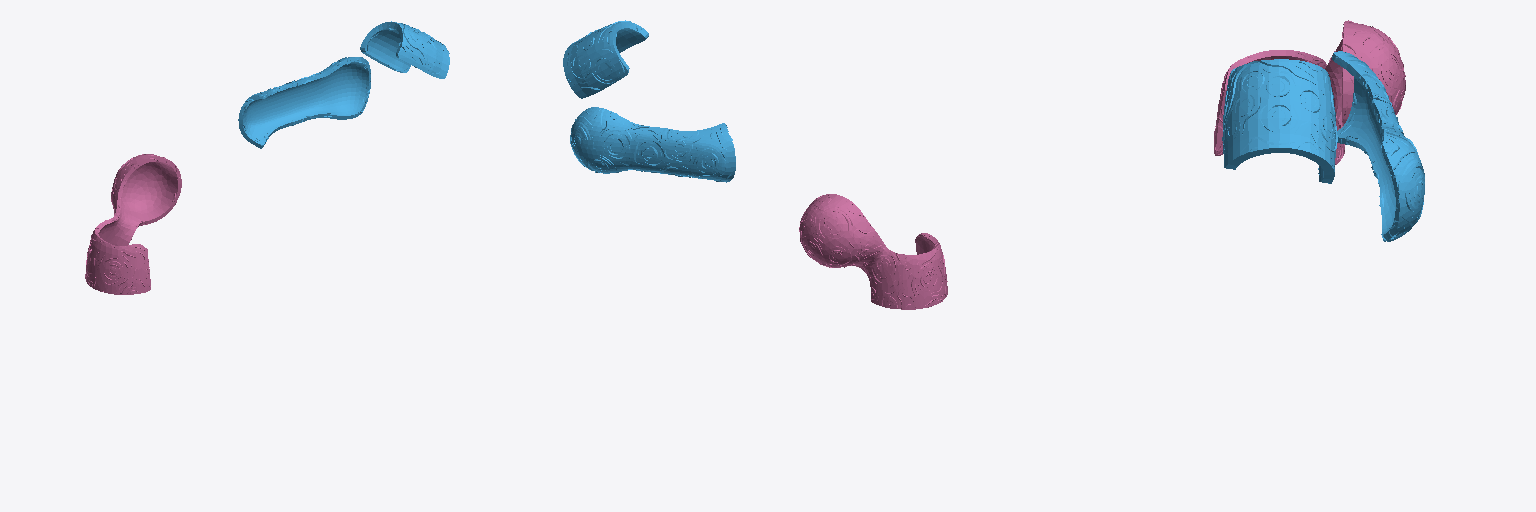
--- What the picture shows (computed from the rendered views, not written in the file) ---
Views: 3 orthographic renders of the robot side by side, from view 1: azimuth 30°, elevation 25°; view 2: azimuth 150°, elevation 25°; view 3: azimuth 270°, elevation 25°.
Model fr3 with 51 links and 50 joints (7 revolute, 43 fixed), rooted at base, posed all joints at 0 but 2 set to mid-range because 0 is outside their limits (fr3_joint4 = -1.6, fr3_joint6 = 2.53).
Links seen in each view (by area): view 1: link3_skin, link5_skin, link6_skin; view 2: link3_skin, link5_skin, link6_skin; view 3: link6_skin, link5_skin, link3_skin.
Boxes of the visible links, <box> form: link3_skin: <box>85,154,181,294</box>; link5_skin: <box>238,57,370,148</box>; link6_skin: <box>360,21,449,78</box>; link3_skin: <box>799,194,947,309</box>; link5_skin: <box>570,107,735,182</box>; link6_skin: <box>563,20,648,98</box>; link6_skin: <box>1222,59,1337,183</box>; link5_skin: <box>1332,51,1424,241</box>; link3_skin: <box>1214,20,1405,164</box>.
Size in the robot's own frame: 0.6432 by 0.273 by 0.6714 metres.
3 mesh visuals loaded from 13 distinct referenced files (3 binary STL); not drawn: 10 (reference not matched to a file when rendering).

The robot description file, URDF, robot "fr3":
<?xml version="1.0" ?>
<!-- =================================================================================== -->
<!-- |    This document was autogenerated by xacro from src/gentact_ros_tools/urdf/robot/fr3_full_skin.xacro | -->
<!-- |    EDITING THIS FILE BY HAND IS NOT RECOMMENDED                                 | -->
<!-- =================================================================================== -->
<!-- =================================================================================== -->
<!-- |    This document was autogenerated by xacro from fr3.urdf.xacro                 | -->
<!-- |    EDITING THIS FILE BY HAND IS NOT RECOMMENDED                                 | -->
<!-- =================================================================================== -->
<robot name="fr3">
  <!-- safety_distance: Minimum safety distance in [m] by which the collision volumes are expanded and which is enforced during robot motions -->
  <!-- arm_id: Namespace of the robot arm. Serves to differentiate between arms in case of multiple instances. -->
  <!-- joint_limits: description of the joint limits that comes from a YAML file. Example definition: ${xacro.load_yaml('$(find gentact_ros_tools)/robots/fr3/joint_limits.yaml')} -->
  <!-- kinematics: description of the kinematics that comes from a YAML file. Example definition: ${xacro.load_yaml('$(find gentact_ros_tools)/robots/fr3/kinematics.yaml')} -->
  <!-- inertials: description of the inertials that comes from a YAML file. Example definition: ${xacro.load_yaml('$(find gentact_ros_tools)/robots/fr3/inertials.yaml')} -->
  <!-- dynamics: description of the dynamics that comes from a YAML file. Example definition: ${xacro.load_yaml('$(find gentact_ros_tools)/robots/fr3/dynamics.yaml')} -->
  <link name="base">
      </link>
  <joint name="fr3_base_joint" type="fixed">
    <parent link="base"/>
    <child link="fr3_link0"/>
    <origin rpy="0 0 0" xyz="0 0 0"/>
  </joint>
  <!-- sub-link defining detailed meshes for collision with environment -->
  <link name="fr3_link0">
    <visual name="fr3_link0_visual">
      <geometry>
        <mesh filename="package://gentact_ros_tools/meshes/robot_arms/fr3/visual/link0.dae"/>
      </geometry>
    </visual>
    <collision name="fr3_link0_collision">
      <geometry>
        <mesh filename="package://gentact_ros_tools/meshes/robot_arms/fr3/collision/link0.stl"/>
      </geometry>
    </collision>
    <inertial>
      <origin rpy="0 0 0" xyz="-0.0172 0.0004 0.0745"/>
      <mass value="2.3966"/>
      <inertia ixx="0.009" ixy="0.0" ixz="0.002" iyy="0.0115" iyz="0.0" izz="0.0085"/>
    </inertial>
  </link>
  <!-- sub-link defining detailed meshes for collision with environment -->
  <link name="fr3_link1">
    <visual name="fr3_link1_visual">
      <geometry>
        <mesh filename="package://gentact_ros_tools/meshes/robot_arms/fr3/visual/link1.dae"/>
      </geometry>
    </visual>
    <collision name="fr3_link1_collision">
      <geometry>
        <mesh filename="package://gentact_ros_tools/meshes/robot_arms/fr3/collision/link1.stl"/>
      </geometry>
    </collision>
    <inertial>
      <origin rpy="0 0 0" xyz="0.0000004128 -0.0181251324 -0.0386035970"/>
      <mass value="2.9274653454"/>
      <inertia ixx="0.023927316485107913" ixy="1.3317903455714081e-05" ixz="-0.00011404774918616684" iyy="0.0224821613275756" iyz="-0.0019950320628240115" izz="0.006350098258530016"/>
    </inertial>
  </link>
  <joint name="fr3_joint1" type="revolute">
    <origin rpy="0 0 0" xyz="0 0 0.333"/>
    <parent link="fr3_link0"/>
    <child link="fr3_link1"/>
    <axis xyz="0 0 1"/>
    <limit effort="87.0" lower="-2.7437" upper="2.7437" velocity="2.62"/>
    <safety_controller k_position="100.0" k_velocity="40.0" soft_lower_limit="-2.7437" soft_upper_limit="2.7437"/>
    <dynamics D="1" K="7000" damping="0.003" friction="0.2" mu_coulomb="0" mu_viscous="16"/>
  </joint>
  <!-- [m] -->
  <link name="link1_skin">
    <visual>
      <origin rpy="0 0 0" xyz="0 0 0"/>
      <geometry>
        <mesh filename="package://gentact_ros_tools/meshes/skin/self-cap/link1_fancy.stl" scale="1 1 1"/>
      </geometry>
    </visual>
  </link>
  <joint name="link1_base_joint" type="fixed">
    <origin rpy="0 0 0" xyz="0 0 0"/>
    <parent link="fr3_link1"/>
    <child link="link1_skin"/>
  </joint>
  <joint name="link1_sensor_0_joint" type="fixed">
    <origin rpy="1.350 0.000 -1.088" xyz="-0.050 -0.111 0.013"/>
    <axis xyz="-0.864 -0.453 0.219"/>
    <parent link="link1_skin"/>
    <child link="link1_sensor_0"/>
  </joint>
  <link name="link1_sensor_0">
    <visual>
      <geometry>
        <sphere radius="0.0"/>
        <!-- [m] -->
      </geometry>
    </visual>
    <collision>
      <geometry>
        <sphere radius="0.0"/>
        <!-- [m] -->
      </geometry>
    </collision>
  </link>
  <joint name="link1_sensor_1_joint" type="fixed">
    <origin rpy="1.638 0.000 -0.596" xyz="-0.034 -0.053 -0.135"/>
    <axis xyz="-0.56 -0.826 -0.067"/>
    <parent link="link1_skin"/>
    <child link="link1_sensor_1"/>
  </joint>
  <link name="link1_sensor_1">
    <visual>
      <geometry>
        <sphere radius="0.0"/>
        <!-- [m] -->
      </geometry>
    </visual>
    <collision>
      <geometry>
        <sphere radius="0.0"/>
        <!-- [m] -->
      </geometry>
    </collision>
  </link>
  <joint name="link1_sensor_2_joint" type="fixed">
    <origin rpy="1.653 -0.000 0.315" xyz="0.019 -0.060 -0.138"/>
    <axis xyz="0.309 -0.948 -0.082"/>
    <parent link="link1_skin"/>
    <child link="link1_sensor_2"/>
  </joint>
  <link name="link1_sensor_2">
    <visual>
      <geometry>
        <sphere radius="0.0"/>
        <!-- [m] -->
      </geometry>
    </visual>
    <collision>
      <geometry>
        <sphere radius="0.0"/>
        <!-- [m] -->
      </geometry>
    </collision>
  </link>
  <joint name="link1_sensor_3_joint" type="fixed">
    <origin rpy="2.309 0.000 -0.530" xyz="-0.023 -0.113 -0.044"/>
    <axis xyz="-0.374 -0.638 -0.673"/>
    <parent link="link1_skin"/>
    <child link="link1_sensor_3"/>
  </joint>
  <link name="link1_sensor_3">
    <visual>
      <geometry>
        <sphere radius="0.0"/>
        <!-- [m] -->
      </geometry>
    </visual>
    <collision>
      <geometry>
        <sphere radius="0.0"/>
        <!-- [m] -->
      </geometry>
    </collision>
  </link>
  <joint name="link1_sensor_4_joint" type="fixed">
    <origin rpy="2.057 0.000 0.441" xyz="0.023 -0.074 -0.084"/>
    <axis xyz="0.378 -0.8 -0.467"/>
    <parent link="link1_skin"/>
    <child link="link1_sensor_4"/>
  </joint>
  <link name="link1_sensor_4">
    <visual>
      <geometry>
        <sphere radius="0.0"/>
        <!-- [m] -->
      </geometry>
    </visual>
    <collision>
      <geometry>
        <sphere radius="0.0"/>
        <!-- [m] -->
      </geometry>
    </collision>
  </link>
  <joint name="link1_sensor_5_joint" type="fixed">
    <origin rpy="1.346 -0.000 1.049" xyz="0.049 -0.112 0.012"/>
    <axis xyz="0.845 -0.486 0.223"/>
    <parent link="link1_skin"/>
    <child link="link1_sensor_5"/>
  </joint>
  <link name="link1_sensor_5">
    <visual>
      <geometry>
        <sphere radius="0.0"/>
        <!-- [m] -->
      </geometry>
    </visual>
    <collision>
      <geometry>
        <sphere radius="0.0"/>
        <!-- [m] -->
      </geometry>
    </collision>
  </link>
  <joint name="link1_sensor_6_joint" type="fixed">
    <origin rpy="1.477 0.000 -0.087" xyz="-0.006 -0.136 0.006"/>
    <axis xyz="-0.086 -0.992 0.094"/>
    <parent link="link1_skin"/>
    <child link="link1_sensor_6"/>
  </joint>
  <link name="link1_sensor_6">
    <visual>
      <geometry>
        <sphere radius="0.0"/>
        <!-- [m] -->
      </geometry>
    </visual>
    <collision>
      <geometry>
        <sphere radius="0.0"/>
        <!-- [m] -->
      </geometry>
    </collision>
  </link>
  <joint name="link1_sensor_7_joint" type="fixed">
    <origin rpy="2.260 0.000 0.700" xyz="0.030 -0.112 -0.041"/>
    <axis xyz="0.497 -0.59 -0.636"/>
    <parent link="link1_skin"/>
    <child link="link1_sensor_7"/>
  </joint>
  <link name="link1_sensor_7">
    <visual>
      <geometry>
        <sphere radius="0.0"/>
        <!-- [m] -->
      </geometry>
    </visual>
    <collision>
      <geometry>
        <sphere radius="0.0"/>
        <!-- [m] -->
      </geometry>
    </collision>
  </link>
  <!-- sub-link defining detailed meshes for collision with environment -->
  <link name="fr3_link2">
    <visual name="fr3_link2_visual">
      <geometry>
        <mesh filename="package://gentact_ros_tools/meshes/robot_arms/fr3/visual/link2.dae"/>
      </geometry>
    </visual>
    <collision name="fr3_link2_collision">
      <geometry>
        <mesh filename="package://gentact_ros_tools/meshes/robot_arms/fr3/collision/link2.stl"/>
      </geometry>
    </collision>
    <inertial>
      <origin rpy="0 0 0" xyz="0.0031828864 -0.0743221644 0.0088146084"/>
      <mass value="2.9355370338"/>
      <inertia ixx="0.041938946257609425" ixy="0.00020257331521090626" ixz="0.004077784227179924" iyy="0.02514514885014724" iyz="-0.0042252158006570156" izz="0.06170214472888839"/>
    </inertial>
  </link>
  <joint name="fr3_joint2" type="revolute">
    <origin rpy="-1.570796326794897 0 0" xyz="0 0 0"/>
    <parent link="fr3_link1"/>
    <child link="fr3_link2"/>
    <axis xyz="0 0 1"/>
    <limit effort="87.0" lower="-1.7837" upper="1.7837" velocity="2.62"/>
    <safety_controller k_position="100.0" k_velocity="40.0" soft_lower_limit="-1.7837" soft_upper_limit="1.7837"/>
    <dynamics D="1" K="7000" damping="0.003" friction="0.2" mu_coulomb="0" mu_viscous="16"/>
  </joint>
  <!-- [m] -->
  <link name="link2_skin">
    <visual>
      <origin rpy="0 0 0" xyz="0 0 0"/>
      <geometry>
        <mesh filename="package://gentact_ros_tools/meshes/skin/self-cap/link2_fancy.stl" scale="1 1 1"/>
      </geometry>
    </visual>
  </link>
  <joint name="link2_base_joint" type="fixed">
    <origin rpy="1.5707 0 0" xyz="0 0 0"/>
    <parent link="fr3_link2"/>
    <child link="link2_skin"/>
  </joint>
  <joint name="link2_sensor_0_joint" type="fixed">
    <origin rpy="1.670 -0.000 -2.166" xyz="-0.048 0.113 -0.006"/>
    <axis xyz="-0.824 0.558 -0.099"/>
    <parent link="link2_skin"/>
    <child link="link2_sensor_0"/>
  </joint>
  <link name="link2_sensor_0">
    <visual>
      <geometry>
        <sphere radius="0.0"/>
        <!-- [m] -->
      </geometry>
    </visual>
    <collision>
      <geometry>
        <sphere radius="0.0"/>
        <!-- [m] -->
      </geometry>
    </collision>
  </link>
  <joint name="link2_sensor_1_joint" type="fixed">
    <origin rpy="1.526 -0.000 2.508" xyz="0.032 0.053 0.147"/>
    <axis xyz="0.592 0.805 0.044"/>
    <parent link="link2_skin"/>
    <child link="link2_sensor_1"/>
  </joint>
  <link name="link2_sensor_1">
    <visual>
      <geometry>
        <sphere radius="0.0"/>
        <!-- [m] -->
      </geometry>
    </visual>
    <collision>
      <geometry>
        <sphere radius="0.0"/>
        <!-- [m] -->
      </geometry>
    </collision>
  </link>
  <joint name="link2_sensor_2_joint" type="fixed">
    <origin rpy="1.549 -0.000 -2.303" xyz="-0.046 0.040 0.162"/>
    <axis xyz="-0.744 0.668 0.022"/>
    <parent link="link2_skin"/>
    <child link="link2_sensor_2"/>
  </joint>
  <link name="link2_sensor_2">
    <visual>
      <geometry>
        <sphere radius="0.0"/>
        <!-- [m] -->
      </geometry>
    </visual>
    <collision>
      <geometry>
        <sphere radius="0.0"/>
        <!-- [m] -->
      </geometry>
    </collision>
  </link>
  <joint name="link2_sensor_3_joint" type="fixed">
    <origin rpy="1.513 -0.000 2.207" xyz="0.050 0.110 0.007"/>
    <axis xyz="0.803 0.593 0.058"/>
    <parent link="link2_skin"/>
    <child link="link2_sensor_3"/>
  </joint>
  <link name="link2_sensor_3">
    <visual>
      <geometry>
        <sphere radius="0.0"/>
        <!-- [m] -->
      </geometry>
    </visual>
    <collision>
      <geometry>
        <sphere radius="0.0"/>
        <!-- [m] -->
      </geometry>
    </collision>
  </link>
  <joint name="link2_sensor_4_joint" type="fixed">
    <origin rpy="1.107 0.000 3.050" xyz="0.004 0.074 0.093"/>
    <axis xyz="0.081 0.89 0.448"/>
    <parent link="link2_skin"/>
    <child link="link2_sensor_4"/>
  </joint>
  <link name="link2_sensor_4">
    <visual>
      <geometry>
        <sphere radius="0.0"/>
        <!-- [m] -->
      </geometry>
    </visual>
    <collision>
      <geometry>
        <sphere radius="0.0"/>
        <!-- [m] -->
      </geometry>
    </collision>
  </link>
  <joint name="link2_sensor_5_joint" type="fixed">
    <origin rpy="0.869 -0.000 3.063" xyz="0.001 0.117 0.045"/>
    <axis xyz="0.06 0.761 0.646"/>
    <parent link="link2_skin"/>
    <child link="link2_sensor_5"/>
  </joint>
  <link name="link2_sensor_5">
    <visual>
      <geometry>
        <sphere radius="0.0"/>
        <!-- [m] -->
      </geometry>
    </visual>
    <collision>
      <geometry>
        <sphere radius="0.0"/>
        <!-- [m] -->
      </geometry>
    </collision>
  </link>
  <joint name="link2_sensor_6_joint" type="fixed">
    <origin rpy="-0.676 -3.142 -0.578" xyz="0.019 0.111 -0.046"/>
    <axis xyz="0.342 0.524 -0.78"/>
    <parent link="link2_skin"/>
    <child link="link2_sensor_6"/>
  </joint>
  <link name="link2_sensor_6">
    <visual>
      <geometry>
        <sphere radius="0.0"/>
        <!-- [m] -->
      </geometry>
    </visual>
    <collision>
      <geometry>
        <sphere radius="0.0"/>
        <!-- [m] -->
      </geometry>
    </collision>
  </link>
  <!-- sub-link defining detailed meshes for collision with environment -->
  <link name="fr3_link3">
    <visual name="fr3_link3_visual">
      <geometry>
        <mesh filename="package://gentact_ros_tools/meshes/robot_arms/fr3/visual/link3.dae"/>
      </geometry>
    </visual>
    <collision name="fr3_link3_collision">
      <geometry>
        <mesh filename="package://gentact_ros_tools/meshes/robot_arms/fr3/collision/link3.stl"/>
      </geometry>
    </collision>
    <inertial>
      <origin rpy="0 0 0" xyz="0.0407015686 -0.0048200565 -0.0289730823"/>
      <mass value="2.2449013699"/>
      <inertia ixx="0.02410142547240885" ixy="0.002404694559042109" ixz="-0.002856269270114313" iyy="0.01974053266708178" iyz="-0.002104212683891874" izz="0.019044494482244823"/>
    </inertial>
  </link>
  <joint name="fr3_joint3" type="revolute">
    <origin rpy="1.570796326794897 0 0" xyz="0 -0.316 0"/>
    <parent link="fr3_link2"/>
    <child link="fr3_link3"/>
    <axis xyz="0 0 1"/>
    <limit effort="87.0" lower="-2.9007" upper="2.9007" velocity="2.62"/>
    <safety_controller k_position="100.0" k_velocity="40.0" soft_lower_limit="-2.9007" soft_upper_limit="2.9007"/>
    <dynamics D="1" K="7000" damping="0.003" friction="0.2" mu_coulomb="0" mu_viscous="16"/>
  </joint>
  <!-- [m] -->
  <link name="link3_skin">
    <visual>
      <origin rpy="0 0 0" xyz="0 0 0"/>
      <geometry>
        <mesh filename="package://gentact_ros_tools/meshes/skin/self-cap/link3_fancy.stl" scale="1 1 1"/>
      </geometry>
    </visual>
  </link>
  <joint name="link3_base_joint" type="fixed">
    <origin rpy="0 0 0" xyz="0 0 0"/>
    <parent link="fr3_link3"/>
    <child link="link3_skin"/>
  </joint>
  <joint name="link3_sensor_0_joint" type="fixed">
    <origin rpy="1.392 0.000 -3.082" xyz="0.008 0.051 -0.043"/>
    <axis xyz="-0.059 0.982 0.178"/>
    <parent link="link3_skin"/>
    <child link="link3_sensor_0"/>
  </joint>
  <link name="link3_sensor_0">
    <visual>
      <geometry>
        <sphere radius="0.0"/>
        <!-- [m] -->
      </geometry>
    </visual>
    <collision>
      <geometry>
        <sphere radius="0.0"/>
        <!-- [m] -->
      </geometry>
    </collision>
  </link>
  <joint name="link3_sensor_1_joint" type="fixed">
    <origin rpy="1.768 -0.000 2.918" xyz="0.097 0.113 -0.015"/>
    <axis xyz="0.217 0.956 -0.196"/>
    <parent link="link3_skin"/>
    <child link="link3_sensor_1"/>
  </joint>
  <link name="link3_sensor_1">
    <visual>
      <geometry>
        <sphere radius="0.0"/>
        <!-- [m] -->
      </geometry>
    </visual>
    <collision>
      <geometry>
        <sphere radius="0.0"/>
        <!-- [m] -->
      </geometry>
    </collision>
  </link>
  <joint name="link3_sensor_2_joint" type="fixed">
    <origin rpy="1.433 0.000 -0.799" xyz="-0.041 -0.037 -0.071"/>
    <axis xyz="-0.71 -0.691 0.137"/>
    <parent link="link3_skin"/>
    <child link="link3_sensor_2"/>
  </joint>
  <link name="link3_sensor_2">
    <visual>
      <geometry>
        <sphere radius="0.0"/>
        <!-- [m] -->
      </geometry>
    </visual>
    <collision>
      <geometry>
        <sphere radius="0.0"/>
        <!-- [m] -->
      </geometry>
    </collision>
  </link>
  <joint name="link3_sensor_3_joint" type="fixed">
    <origin rpy="1.189 -0.000 2.713" xyz="0.107 0.106 0.026"/>
    <axis xyz="0.386 0.844 0.373"/>
    <parent link="link3_skin"/>
    <child link="link3_sensor_3"/>
  </joint>
  <link name="link3_sensor_3">
    <visual>
      <geometry>
        <sphere radius="0.0"/>
        <!-- [m] -->
      </geometry>
    </visual>
    <collision>
      <geometry>
        <sphere radius="0.0"/>
        <!-- [m] -->
      </geometry>
    </collision>
  </link>
  <joint name="link3_sensor_4_joint" type="fixed">
    <origin rpy="1.084 -0.000 -2.868" xyz="0.067 0.106 0.031"/>
    <axis xyz="-0.239 0.851 0.468"/>
    <parent link="link3_skin"/>
    <child link="link3_sensor_4"/>
  </joint>
  <link name="link3_sensor_4">
    <visual>
      <geometry>
        <sphere radius="0.0"/>
        <!-- [m] -->
      </geometry>
    </visual>
    <collision>
      <geometry>
        <sphere radius="0.0"/>
        <!-- [m] -->
      </geometry>
    </collision>
  </link>
  <joint name="link3_sensor_5_joint" type="fixed">
    <origin rpy="1.838 0.000 -2.747" xyz="0.057 0.108 -0.019"/>
    <axis xyz="-0.371 0.89 -0.264"/>
    <parent link="link3_skin"/>
    <child link="link3_sensor_5"/>
  </joint>
  <link name="link3_sensor_5">
    <visual>
      <geometry>
        <sphere radius="0.0"/>
        <!-- [m] -->
      </geometry>
    </visual>
    <collision>
      <geometry>
        <sphere radius="0.0"/>
        <!-- [m] -->
      </geometry>
    </collision>
  </link>
  <joint name="link3_sensor_6_joint" type="fixed">
    <origin rpy="1.426 0.000 -2.050" xyz="-0.050 0.023 -0.063"/>
    <axis xyz="-0.878 0.457 0.145"/>
    <parent link="link3_skin"/>
    <child link="link3_sensor_6"/>
  </joint>
  <link name="link3_sensor_6">
    <visual>
      <geometry>
        <sphere radius="0.0"/>
        <!-- [m] -->
      </geometry>
    </visual>
    <collision>
      <geometry>
        <sphere radius="0.0"/>
        <!-- [m] -->
      </geometry>
    </collision>
  </link>
  <joint name="link3_sensor_7_joint" type="fixed">
    <origin rpy="-0.311 3.142 -0.185" xyz="0.085 0.086 -0.050"/>
    <axis xyz="0.056 0.301 -0.952"/>
    <parent link="link3_skin"/>
    <child link="link3_sensor_7"/>
  </joint>
  <link name="link3_sensor_7">
    <visual>
      <geometry>
        <sphere radius="0.0"/>
        <!-- [m] -->
      </geometry>
    </visual>
    <collision>
      <geometry>
        <sphere radius="0.0"/>
        <!-- [m] -->
      </geometry>
    </collision>
  </link>
  <!-- sub-link defining detailed meshes for collision with environment -->
  <link name="fr3_link4">
    <visual name="fr3_link4_visual">
      <geometry>
        <mesh filename="package://gentact_ros_tools/meshes/robot_arms/fr3/visual/link4.dae"/>
      </geometry>
    </visual>
    <collision name="fr3_link4_collision">
      <geometry>
        <mesh filename="package://gentact_ros_tools/meshes/robot_arms/fr3/collision/link4.stl"/>
      </geometry>
    </collision>
    <inertial>
      <origin rpy="0 0 0" xyz="-0.0459100965 0.0630492960 -0.0085187868"/>
      <mass value="2.6155955791"/>
      <inertia ixx="0.03452998321913202" ixy="0.01322552265982813" ixz="0.01015142998484113" iyy="0.028881621933049058" iyz="-0.0009762833870704552" izz="0.04125471171146641"/>
    </inertial>
  </link>
  <joint name="fr3_joint4" type="revolute">
    <origin rpy="1.570796326794897 0 0" xyz="0.0825 0 0"/>
    <parent link="fr3_link3"/>
    <child link="fr3_link4"/>
    <axis xyz="0 0 1"/>
    <limit effort="87.0" lower="-3.0421" upper="-0.1518" velocity="2.62"/>
    <safety_controller k_position="100.0" k_velocity="40.0" soft_lower_limit="-3.0421" soft_upper_limit="-0.1518"/>
    <dynamics D="1" K="7000" damping="0.003" friction="0.2" mu_coulomb="0" mu_viscous="16"/>
  </joint>
  <!-- sub-link defining detailed meshes for collision with environment -->
  <link name="fr3_link5">
    <visual name="fr3_link5_visual">
      <geometry>
        <mesh filename="package://gentact_ros_tools/meshes/robot_arms/fr3/visual/link5.dae"/>
      </geometry>
    </visual>
    <collision name="fr3_link5_collision">
      <geometry>
        <mesh filename="package://gentact_ros_tools/meshes/robot_arms/fr3/collision/link5.stl"/>
      </geometry>
    </collision>
    <inertial>
      <origin rpy="0 0 0" xyz="-0.0016039605 0.0292536262 -0.0972965990"/>
      <mass value="2.3271207594"/>
      <inertia ixx="0.051610278463662895" ixy="-0.005715173387783472" ixz="-0.0035673167625872135" iyy="0.04787729713371481" iyz="0.010673985108535986" izz="0.016423625579357254"/>
    </inertial>
  </link>
  <joint name="fr3_joint5" type="revolute">
    <origin rpy="-1.570796326794897 0 0" xyz="-0.0825 0.384 0"/>
    <parent link="fr3_link4"/>
    <child link="fr3_link5"/>
    <axis xyz="0 0 1"/>
    <limit effort="12.0" lower="-2.8065" upper="2.8065" velocity="5.26"/>
    <safety_controller k_position="100.0" k_velocity="40.0" soft_lower_limit="-2.8065" soft_upper_limit="2.8065"/>
    <dynamics D="1" K="7000" damping="0.003" friction="0.2" mu_coulomb="0" mu_viscous="16"/>
  </joint>
  <!-- [m] -->
  <link name="link5_skin">
    <visual>
      <origin rpy="0 0 0" xyz="0 0 0"/>
      <geometry>
        <mesh filename="package://gentact_ros_tools/meshes/skin/self-cap/link5_fancy.stl" scale="1 1 1"/>
      </geometry>
    </visual>
  </link>
  <joint name="link5_base_joint" type="fixed">
    <origin rpy="0 0 0" xyz="0 0 0"/>
    <parent link="fr3_link5"/>
    <child link="link5_skin"/>
  </joint>
  <joint name="link5_sensor_5_joint" type="fixed">
    <origin rpy="-1.403 -3.142 0.049" xyz="-0.004 0.115 -0.089"/>
    <axis xyz="-0.049 0.985 -0.167"/>
    <parent link="link5_skin"/>
    <child link="link5_sensor_5"/>
  </joint>
  <link name="link5_sensor_5">
    <visual>
      <geometry>
        <sphere radius="0.0"/>
        <!-- [m] -->
      </geometry>
    </visual>
    <collision>
      <geometry>
        <sphere radius="0.0"/>
        <!-- [m] -->
      </geometry>
    </collision>
  </link>
  <joint name="link5_sensor_1_joint" type="fixed">
    <origin rpy="-1.229 -3.142 0.054" xyz="-0.007 0.127 -0.038"/>
    <axis xyz="-0.05 0.941 -0.335"/>
    <parent link="link5_skin"/>
    <child link="link5_sensor_1"/>
  </joint>
  <link name="link5_sensor_1">
    <visual>
      <geometry>
        <sphere radius="0.0"/>
        <!-- [m] -->
      </geometry>
    </visual>
    <collision>
      <geometry>
        <sphere radius="0.0"/>
        <!-- [m] -->
      </geometry>
    </collision>
  </link>
  <joint name="link5_sensor_4_joint" type="fixed">
    <origin rpy="1.760 -0.000 2.750" xyz="0.026 0.130 -0.013"/>
    <axis xyz="0.375 0.908 -0.188"/>
    <parent link="link5_skin"/>
    <child link="link5_sensor_4"/>
  </joint>
  <link name="link5_sensor_4">
    <visual>
      <geometry>
        <sphere radius="0.0"/>
        <!-- [m] -->
      </geometry>
    </visual>
    <collision>
      <geometry>
        <sphere radius="0.0"/>
        <!-- [m] -->
      </geometry>
    </collision>
  </link>
  <joint name="link5_sensor_2_joint" type="fixed">
    <origin rpy="1.754 0.000 -2.906" xyz="-0.016 0.104 -0.138"/>
    <axis xyz="-0.23 0.956 -0.183"/>
    <parent link="link5_skin"/>
    <child link="link5_sensor_2"/>
  </joint>
  <link name="link5_sensor_2">
    <visual>
      <geometry>
        <sphere radius="0.0"/>
        <!-- [m] -->
      </geometry>
    </visual>
    <collision>
      <geometry>
        <sphere radius="0.0"/>
        <!-- [m] -->
      </geometry>
    </collision>
  </link>
  <joint name="link5_sensor_3_joint" type="fixed">
    <origin rpy="1.136 0.000 -3.040" xyz="-0.007 0.133 0.023"/>
    <axis xyz="-0.092 0.902 0.422"/>
    <parent link="link5_skin"/>
    <child link="link5_sensor_3"/>
  </joint>
  <link name="link5_sensor_3">
    <visual>
      <geometry>
        <sphere radius="0.0"/>
        <!-- [m] -->
      </geometry>
    </visual>
    <collision>
      <geometry>
        <sphere radius="0.0"/>
        <!-- [m] -->
      </geometry>
    </collision>
  </link>
  <joint name="link5_sensor_0_joint" type="fixed">
    <origin rpy="-1.262 3.142 0.019" xyz="-0.000 0.096 -0.184"/>
    <axis xyz="-0.018 0.953 -0.304"/>
    <parent link="link5_skin"/>
    <child link="link5_sensor_0"/>
  </joint>
  <link name="link5_sensor_0">
    <visual>
      <geometry>
        <sphere radius="0.0"/>
        <!-- [m] -->
      </geometry>
    </visual>
    <collision>
      <geometry>
        <sphere radius="0.0"/>
        <!-- [m] -->
      </geometry>
    </collision>
  </link>
  <!-- sub-link defining detailed meshes for collision with environment -->
  <link name="fr3_link6">
    <visual name="fr3_link6_visual">
      <geometry>
        <mesh filename="package://gentact_ros_tools/meshes/robot_arms/fr3/visual/link6.dae"/>
      </geometry>
    </visual>
    <collision name="fr3_link6_collision">
      <geometry>
        <mesh filename="package://gentact_ros_tools/meshes/robot_arms/fr3/collision/link6.stl"/>
      </geometry>
    </collision>
    <inertial>
      <origin rpy="0 0 0" xyz="0.0597131221 -0.0410294666 -0.0101692726"/>
      <mass value="1.8170376524"/>
      <inertia ixx="0.005412333594383447" ixy="0.006193456360285834" ixz="0.0014219289306117652" iyy="0.014058329545509979" iyz="-0.0013140753741120031" izz="0.016080817924212554"/>
    </inertial>
  </link>
  <joint name="fr3_joint6" type="revolute">
    <origin rpy="1.570796326794897 0 0" xyz="0 0 0"/>
    <parent link="fr3_link5"/>
    <child link="fr3_link6"/>
    <axis xyz="0 0 1"/>
    <limit effort="12.0" lower="0.5445" upper="4.5169" velocity="4.18"/>
    <safety_controller k_position="100.0" k_velocity="40.0" soft_lower_limit="0.5445" soft_upper_limit="4.5169"/>
    <dynamics D="1" K="7000" damping="0.003" friction="0.2" mu_coulomb="0" mu_viscous="16"/>
  </joint>
  <!-- [m] -->
  <link name="link6_skin">
    <visual>
      <origin rpy="0 0 0" xyz="0 0 0"/>
      <geometry>
        <mesh filename="package://gentact_ros_tools/meshes/skin/self-cap/link6_fancy.stl" scale="1 1 1"/>
      </geometry>
    </visual>
  </link>
  <joint name="link6_base_joint" type="fixed">
    <origin rpy="-1.57079632679 0 0" xyz="0 0 0"/>
    <parent link="fr3_link6"/>
    <child link="link6_skin"/>
  </joint>
  <joint name="link6_sensor_0_joint" type="fixed">
    <origin rpy="1.582 0.000 0.494" xyz="0.117 -0.045 -0.004"/>
    <axis xyz="0.474 -0.881 -0.011"/>
    <parent link="link6_skin"/>
    <child link="link6_sensor_0"/>
  </joint>
  <link name="link6_sensor_0">
    <visual>
      <geometry>
        <sphere radius="0.0"/>
        <!-- [m] -->
      </geometry>
    </visual>
    <collision>
      <geometry>
        <sphere radius="0.0"/>
        <!-- [m] -->
      </geometry>
    </collision>
  </link>
  <joint name="link6_sensor_1_joint" type="fixed">
    <origin rpy="1.451 0.000 1.101" xyz="0.133 -0.025 0.039"/>
    <axis xyz="0.885 -0.449 0.12"/>
    <parent link="link6_skin"/>
    <child link="link6_sensor_1"/>
  </joint>
  <link name="link6_sensor_1">
    <visual>
      <geometry>
        <sphere radius="0.0"/>
        <!-- [m] -->
      </geometry>
    </visual>
    <collision>
      <geometry>
        <sphere radius="0.0"/>
        <!-- [m] -->
      </geometry>
    </collision>
  </link>
  <joint name="link6_sensor_2_joint" type="fixed">
    <origin rpy="1.487 -0.000 1.464" xyz="0.140 -0.002 0.030"/>
    <axis xyz="0.991 -0.106 0.084"/>
    <parent link="link6_skin"/>
    <child link="link6_sensor_2"/>
  </joint>
  <link name="link6_sensor_2">
    <visual>
      <geometry>
        <sphere radius="0.0"/>
        <!-- [m] -->
      </geometry>
    </visual>
    <collision>
      <geometry>
        <sphere radius="0.0"/>
        <!-- [m] -->
      </geometry>
    </collision>
  </link>
  <joint name="link6_sensor_3_joint" type="fixed">
    <origin rpy="1.585 -0.000 2.644" xyz="0.113 0.047 0.002"/>
    <axis xyz="0.477 0.879 -0.015"/>
    <parent link="link6_skin"/>
    <child link="link6_sensor_3"/>
  </joint>
  <link name="link6_sensor_3">
    <visual>
      <geometry>
        <sphere radius="0.0"/>
        <!-- [m] -->
      </geometry>
    </visual>
    <collision>
      <geometry>
        <sphere radius="0.0"/>
        <!-- [m] -->
      </geometry>
    </collision>
  </link>
  <joint name="link6_sensor_4_joint" type="fixed">
    <origin rpy="1.533 -0.000 2.048" xyz="0.132 0.029 0.018"/>
    <axis xyz="0.888 0.459 0.037"/>
    <parent link="link6_skin"/>
    <child link="link6_sensor_4"/>
  </joint>
  <link name="link6_sensor_4">
    <visual>
      <geometry>
        <sphere radius="0.0"/>
        <!-- [m] -->
      </geometry>
    </visual>
    <collision>
      <geometry>
        <sphere radius="0.0"/>
        <!-- [m] -->
      </geometry>
    </collision>
  </link>
  <joint name="link6_sensor_5_joint" type="fixed">
    <origin rpy="1.581 -0.000 1.470" xyz="0.141 -0.001 -0.002"/>
    <axis xyz="0.995 -0.1 -0.01"/>
    <parent link="link6_skin"/>
    <child link="link6_sensor_5"/>
  </joint>
  <link name="link6_sensor_5">
    <visual>
      <geometry>
        <sphere radius="0.0"/>
        <!-- [m] -->
      </geometry>
    </visual>
    <collision>
      <geometry>
        <sphere radius="0.0"/>
        <!-- [m] -->
      </geometry>
    </collision>
  </link>
  <joint name="link6_sensor_6_joint" type="fixed">
    <origin rpy="1.541 -0.000 0.888" xyz="0.130 -0.033 0.015"/>
    <axis xyz="0.776 -0.631 0.03"/>
    <parent link="link6_skin"/>
    <child link="link6_sensor_6"/>
  </joint>
  <link name="link6_sensor_6">
    <visual>
      <geometry>
        <sphere radius="0.0"/>
        <!-- [m] -->
      </geometry>
    </visual>
    <collision>
      <geometry>
        <sphere radius="0.0"/>
        <!-- [m] -->
      </geometry>
    </collision>
  </link>
  <joint name="link6_sensor_7_joint" type="fixed">
    <origin rpy="1.488 0.000 -3.049" xyz="0.087 0.051 0.036"/>
    <axis xyz="-0.092 0.992 0.083"/>
    <parent link="link6_skin"/>
    <child link="link6_sensor_7"/>
  </joint>
  <link name="link6_sensor_7">
    <visual>
      <geometry>
        <sphere radius="0.0"/>
        <!-- [m] -->
      </geometry>
    </visual>
    <collision>
      <geometry>
        <sphere radius="0.0"/>
        <!-- [m] -->
      </geometry>
    </collision>
  </link>
  <!-- sub-link defining detailed meshes for collision with environment -->
  <link name="fr3_link7">
    <visual name="fr3_link7_visual">
      <geometry>
        <mesh filename="package://gentact_ros_tools/meshes/robot_arms/fr3/visual/link7.dae"/>
      </geometry>
    </visual>
    <collision name="fr3_link7_collision">
      <geometry>
        <mesh filename="package://gentact_ros_tools/meshes/robot_arms/fr3/collision/link7.stl"/>
      </geometry>
    </collision>
    <inertial>
      <origin rpy="0 0 0" xyz="0.0045225817 0.0086261921 -0.0161633251"/>
      <mass value="0.6271432862"/>
      <inertia ixx="0.00021092389150104718" ixy="-2.433299114461931e-05" ixz="4.564480393778983e-05" iyy="0.00017718568002411474" iyz="8.744070223226438e-05" izz="5.993190599659971e-05"/>
    </inertial>
  </link>
  <joint name="fr3_joint7" type="revolute">
    <origin rpy="1.570796326794897 0 0" xyz="0.088 0 0"/>
    <parent link="fr3_link6"/>
    <child link="fr3_link7"/>
    <axis xyz="0 0 1"/>
    <limit effort="12.0" lower="-3.0159" upper="3.0159" velocity="5.26"/>
    <safety_controller k_position="100.0" k_velocity="40.0" soft_lower_limit="-3.0159" soft_upper_limit="3.0159"/>
    <dynamics D="1" K="7000" damping="0.003" friction="0.2" mu_coulomb="0" mu_viscous="16"/>
  </joint>
</robot>
